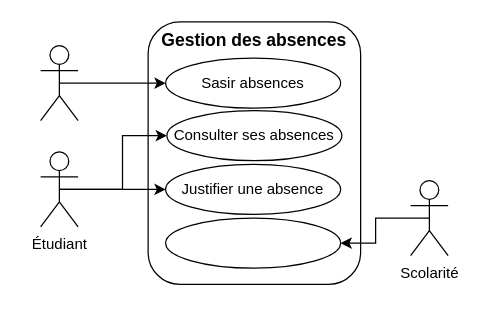
This 480x316 diagram has some shape labels left out. The shapes that lost their labels are listed below. From the top down, each one's centre as x and y in pixels, then its label:
At [58,82]: "Enseignant".
At [252,242]: "Valider les justificatifs".
